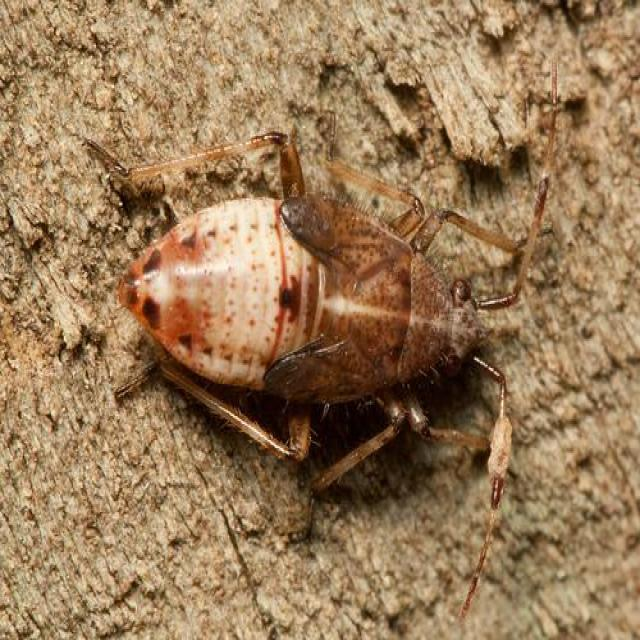Miridae-Adult-: (52, 106, 571, 540)
